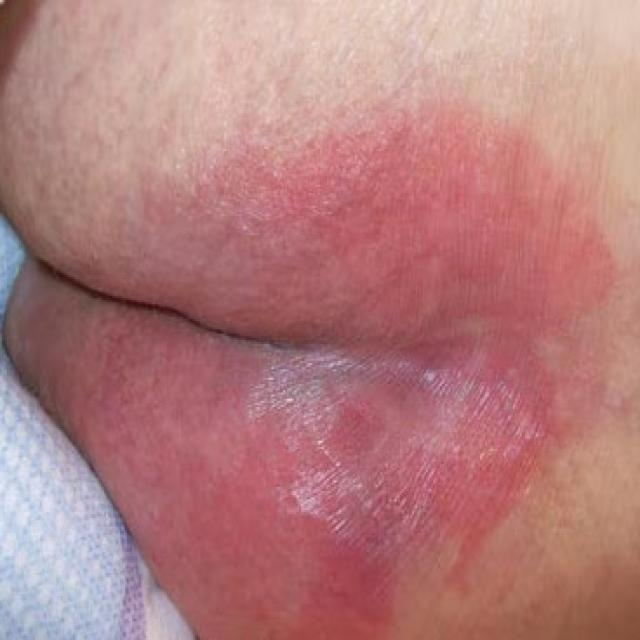stage-1: (101, 120, 620, 637)
